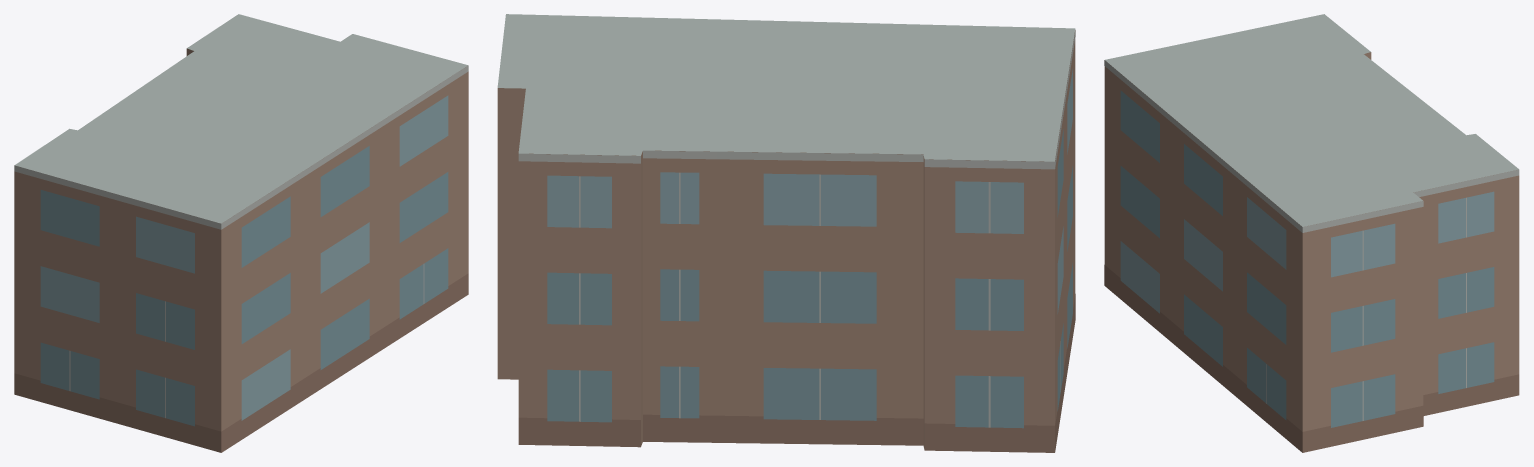
Rendered from survey-upis-32925991.glb.
The picture shows the model from 3 angles, left to right: view 1: azimuth 30°, elevation 25°; view 2: azimuth 150°, elevation 25°; view 3: azimuth 270°, elevation 25°; orthographic projection. The views are drawn at different scales.
Parts seen in each view (by area): view 1: survey-upis-32925991.tmp; view 2: survey-upis-32925991.tmp; view 3: survey-upis-32925991.tmp.
Part boxes in pixels (left/top/right/bottom): survey-upis-32925991.tmp: left=14, top=14, right=468, bottom=452; survey-upis-32925991.tmp: left=497, top=14, right=1075, bottom=452; survey-upis-32925991.tmp: left=1104, top=14, right=1519, bottom=452.
Size of the model in its own units: 18.52 by 9.15 by 15.24.
